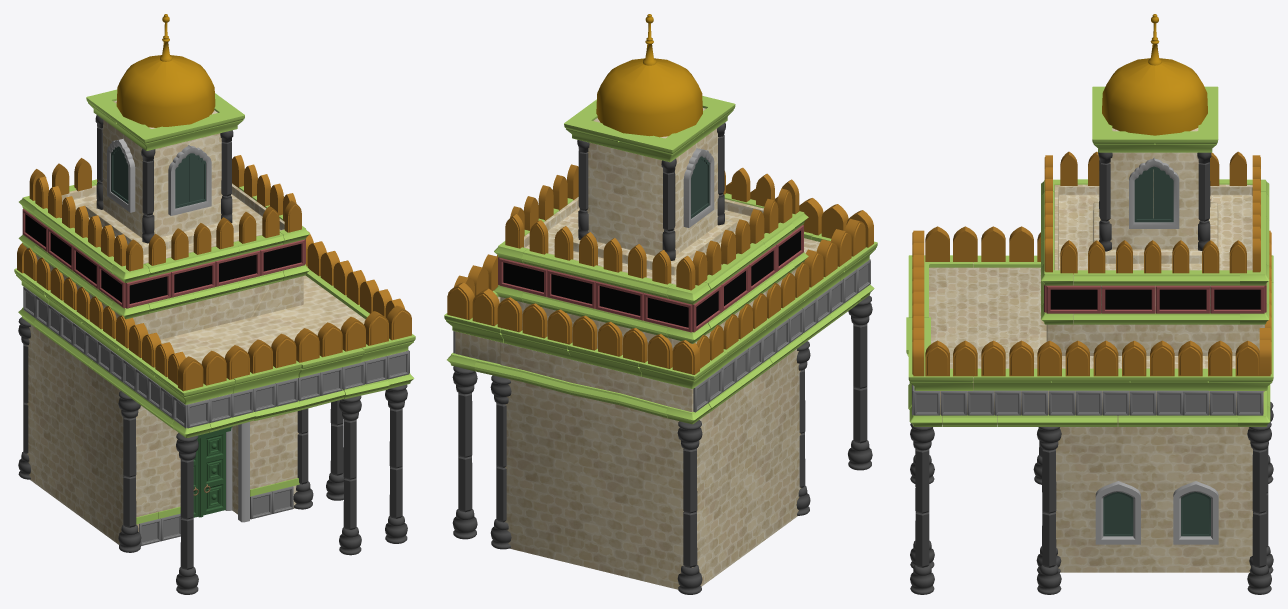
File: SM_temple_03.fbx
3 renders of one model, left to right at view 1: azimuth 30°, elevation 25°; view 2: azimuth 150°, elevation 25°; view 3: azimuth 270°, elevation 25°, orthographic. The views are drawn at different scales.
Parts seen in each view (by area): view 1: Object33163; view 2: Object33163; view 3: Object33163.
Part boxes in pixels (box(x1,y1,x2,y2)): Object33163: box(14, 14, 415, 594); Object33163: box(444, 14, 877, 594); Object33163: box(906, 14, 1273, 594).
Size of the model in its own units: 309 by 605 by 394.
